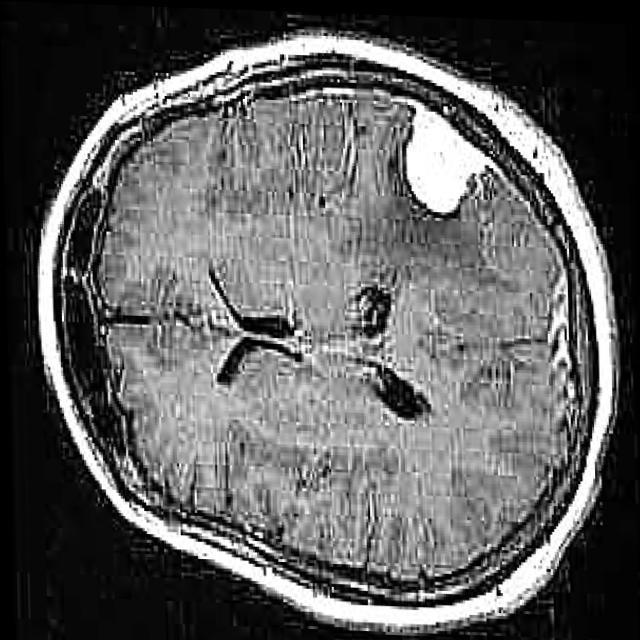Tumor: (400, 73, 496, 229)
